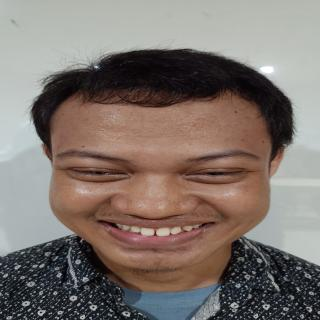Senang: (42, 93, 280, 282)
